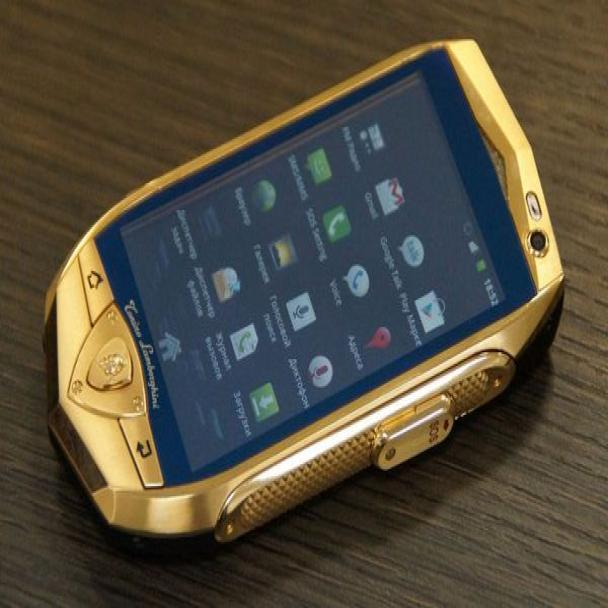Handphone: (36, 12, 601, 597)
